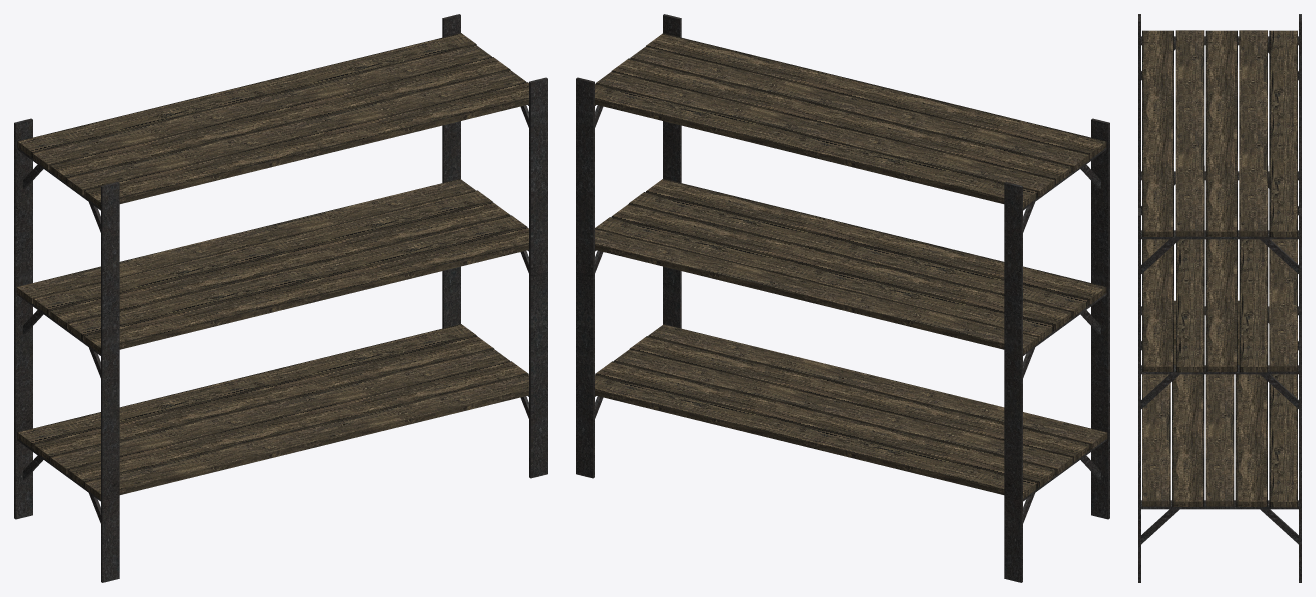
File: shelf_mx_2.glb
3 renders of one model, left to right at view 1: azimuth 30°, elevation 25°; view 2: azimuth 150°, elevation 25°; view 3: azimuth 270°, elevation 25°, orthographic. The views are drawn at different scales.
Parts seen in each view (by area): view 1: shelf_mx_2; view 2: shelf_mx_2; view 3: shelf_mx_2.
Part boxes in pixels (x1,y1,x2,y2): shelf_mx_2: [14, 14, 547, 582]; shelf_mx_2: [576, 14, 1109, 582]; shelf_mx_2: [1138, 14, 1301, 582].
Bounding box in the file's own units: 1.6 × 1.36 × 0.55.
Materials: 2 (2 with a texture image).
